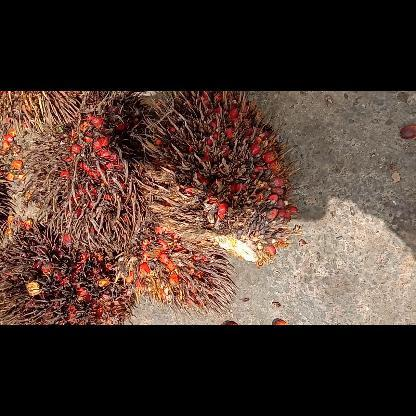Terlalu masak: (132, 91, 302, 271), (19, 98, 164, 266), (0, 224, 139, 325), (111, 224, 241, 318)
